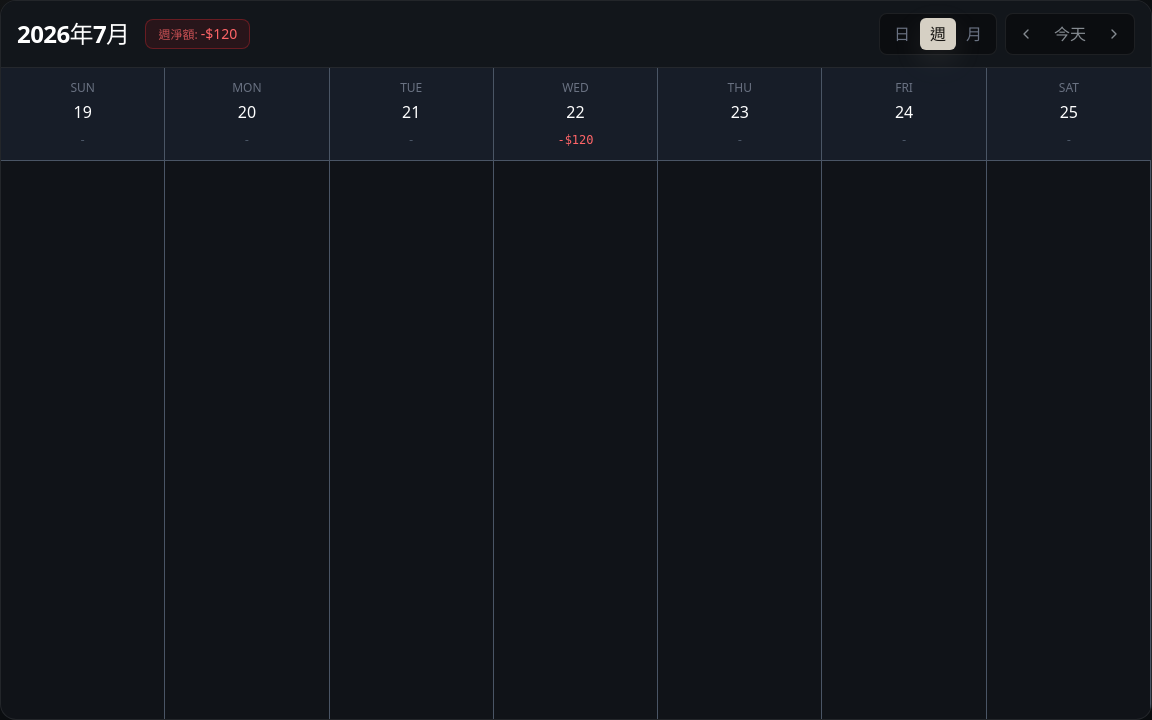
Test: CalendarView › opens the day overview when a date is clicked in week view
Step 1. Click the button named "查看 2026-07-22 當日資訊" → (576, 112), box [560,96,592,128]
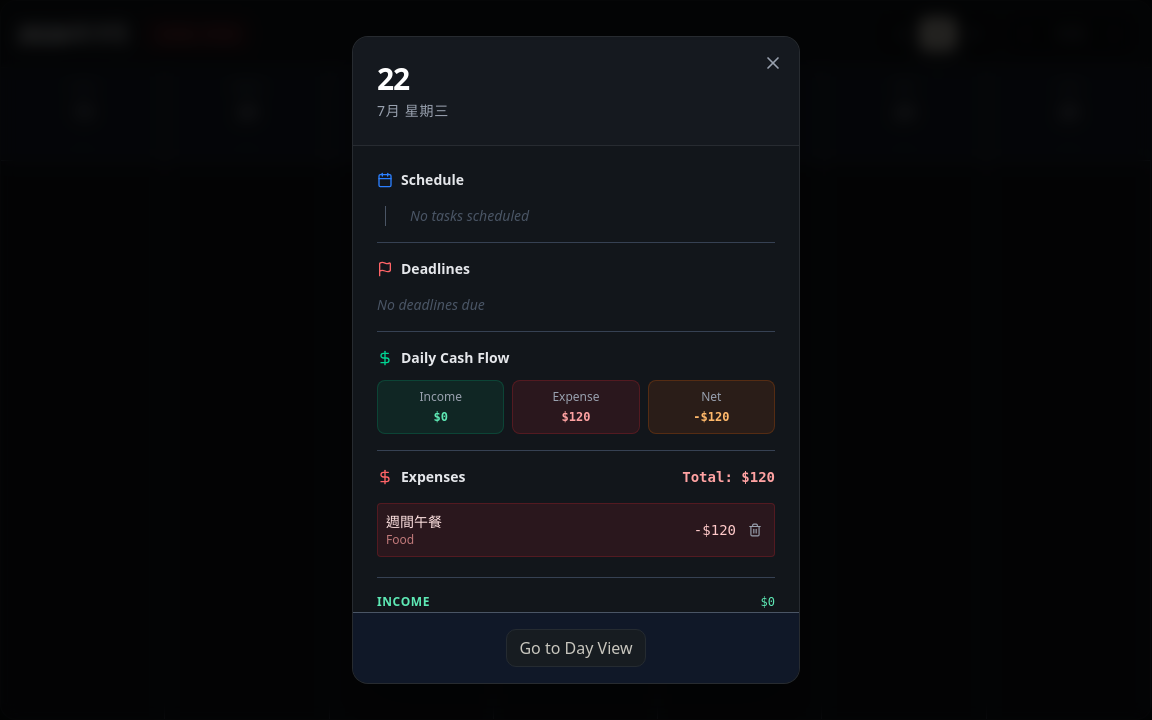
Expected: the dialog is shown, [352,36,800,684]
Expected: the text "週間午餐" is shown, [386,512,442,531]
